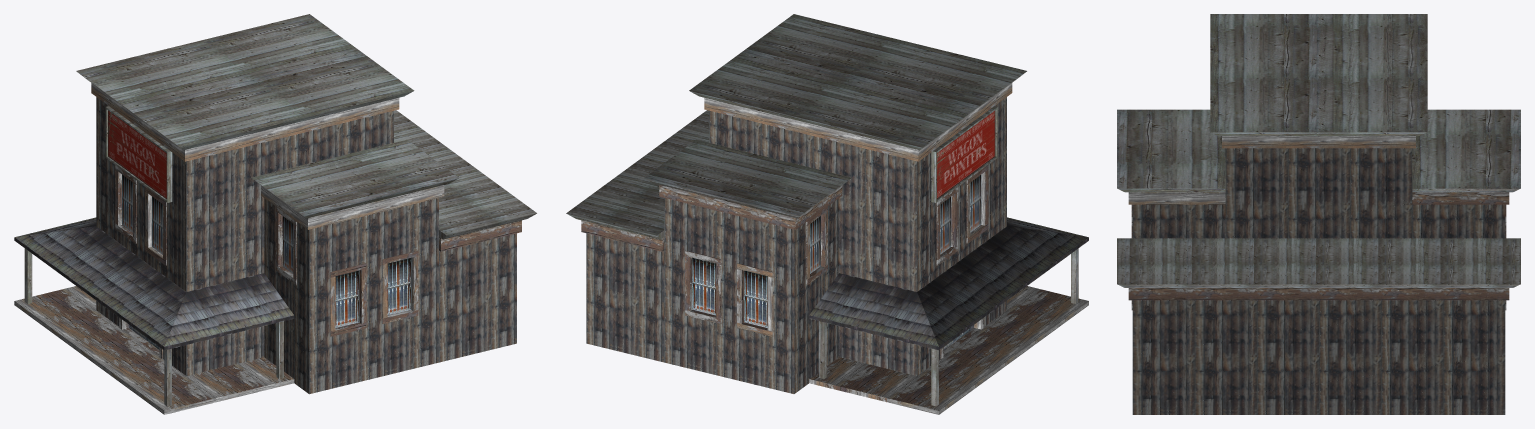
The model's file is StaticMesh5.fbx.
The picture shows the model from 3 angles, left to right: view 1: azimuth 30°, elevation 25°; view 2: azimuth 150°, elevation 25°; view 3: azimuth 270°, elevation 25°; orthographic projection. The views are drawn at different scales.
Parts seen in each view (by area): view 1: StaticMesh5; view 2: StaticMesh5; view 3: StaticMesh5.
Boxes of the visible parts, left/top/right/bottom form: StaticMesh5: left=14, top=14, right=536, bottom=414; StaticMesh5: left=566, top=14, right=1088, bottom=414; StaticMesh5: left=1117, top=14, right=1520, bottom=414.
Bounding box in the file's own units: 86411 × 56800 × 83200.
